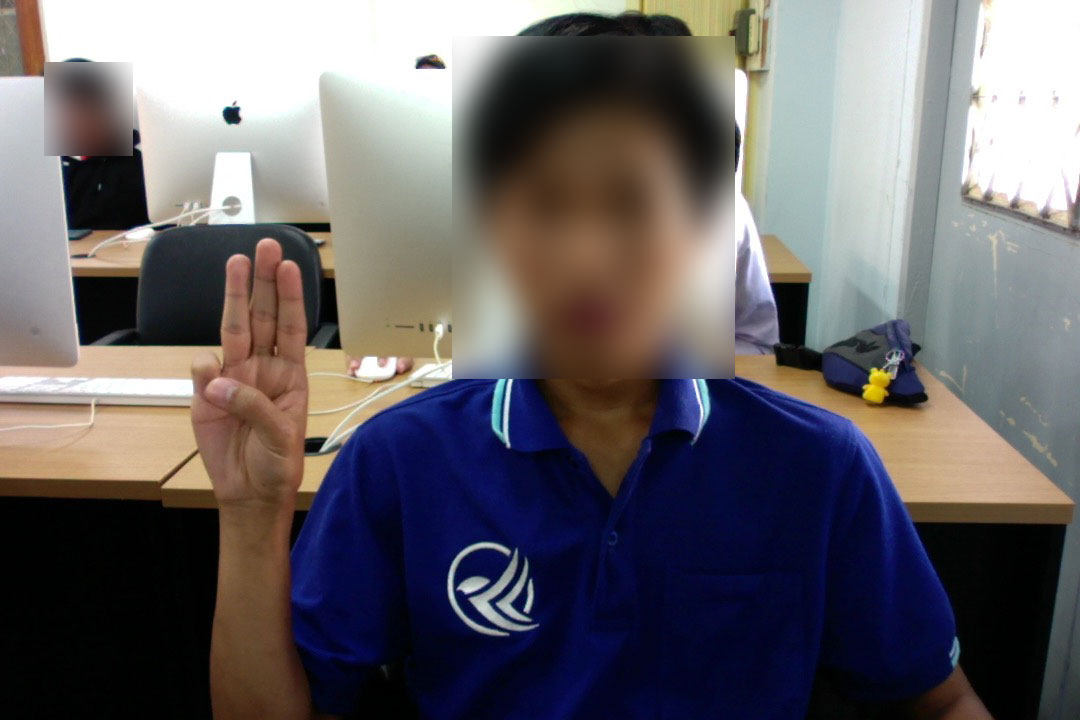wor: (183, 225, 310, 505)
